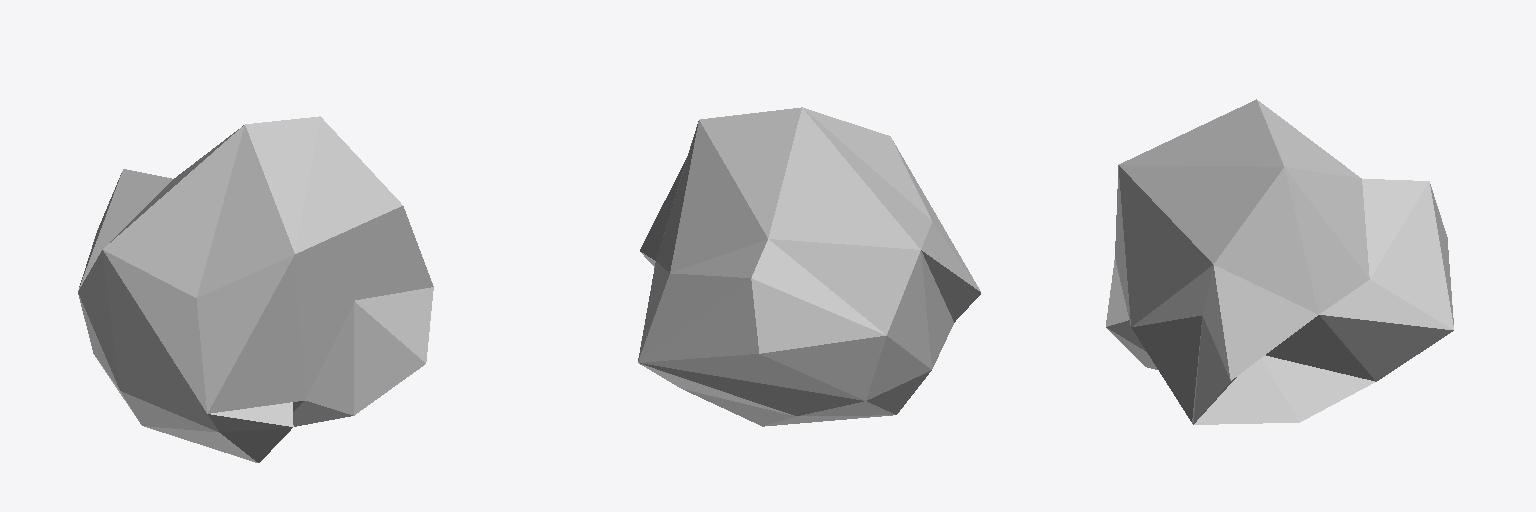
File: Rock4.obj
3 views of the same model, side by side, from view 1: azimuth 30°, elevation 25°; view 2: azimuth 150°, elevation 25°; view 3: azimuth 270°, elevation 25° (orthographic).
Visible parts, largest first — view 1: Group59010; view 2: Group59010; view 3: Group59010.
Part boxes in pixels (x1,y1,x2,y2): Group59010: (78,116,433,462); Group59010: (638,107,980,426); Group59010: (1106,99,1453,424).
Size of the model in its own units: 3.05 by 2.77 by 3.